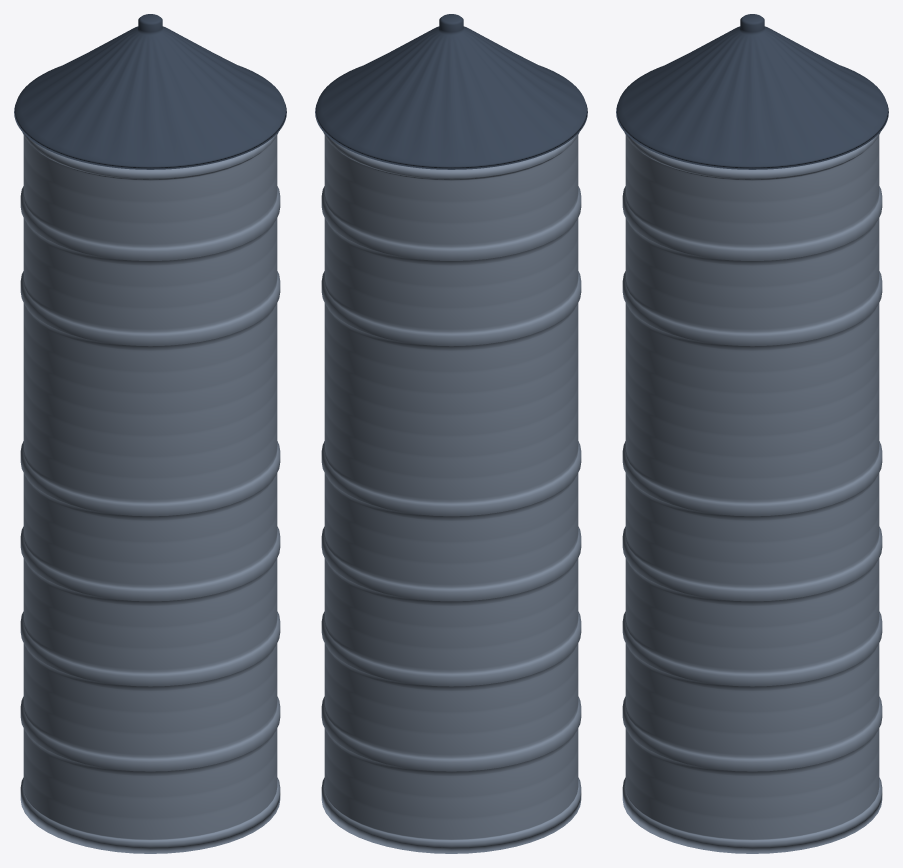
File: grain-silo-large-shell.glb
3 views of the same model, side by side, from view 1: azimuth 30°, elevation 25°; view 2: azimuth 150°, elevation 25°; view 3: azimuth 270°, elevation 25° (orthographic).
Visible parts, largest first — view 1: Grain-silo-large-shellBody; view 2: Grain-silo-large-shellBody; view 3: Grain-silo-large-shellBody.
Boxes of the visible parts, x1,y1,x2,y2 form: Grain-silo-large-shellBody: [14, 14, 286, 853]; Grain-silo-large-shellBody: [315, 14, 587, 853]; Grain-silo-large-shellBody: [616, 14, 888, 853].
Bounding box in the file's own units: 12.6 × 39.8 × 12.6.
